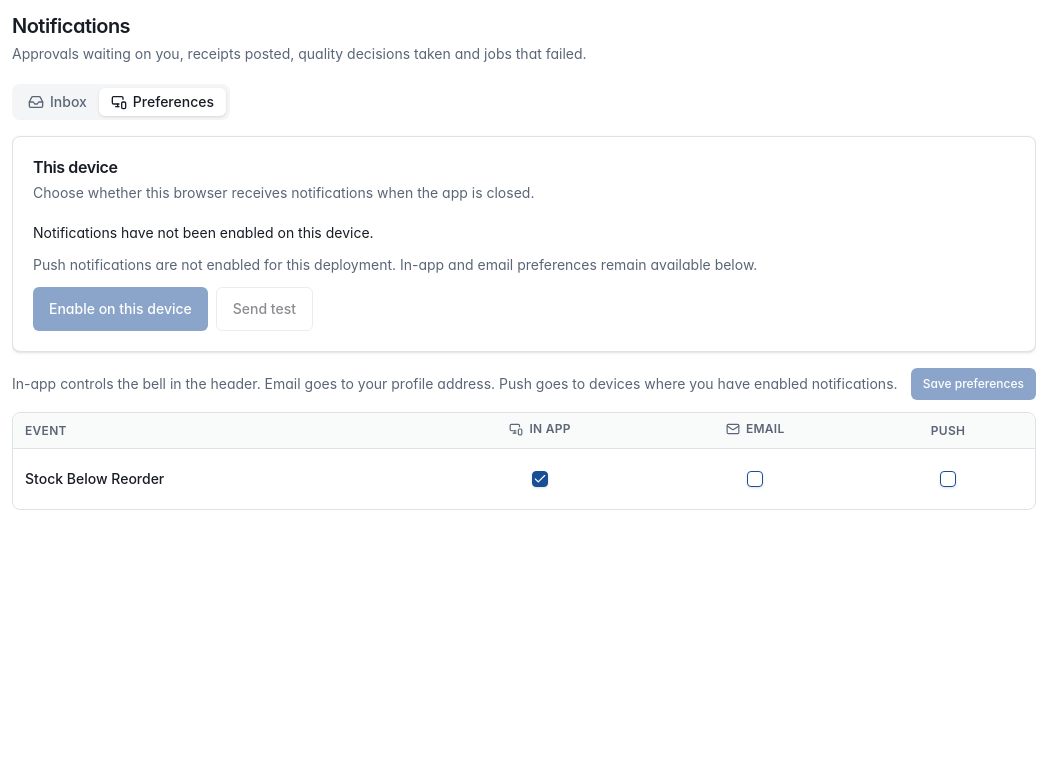
Test: notification preferences › restoring a checkbox removes the change instead of sending an untouched row
Click the 3rd checkbox named "Stock Below Reorder by push" at (948, 479), box [940,471,956,487]
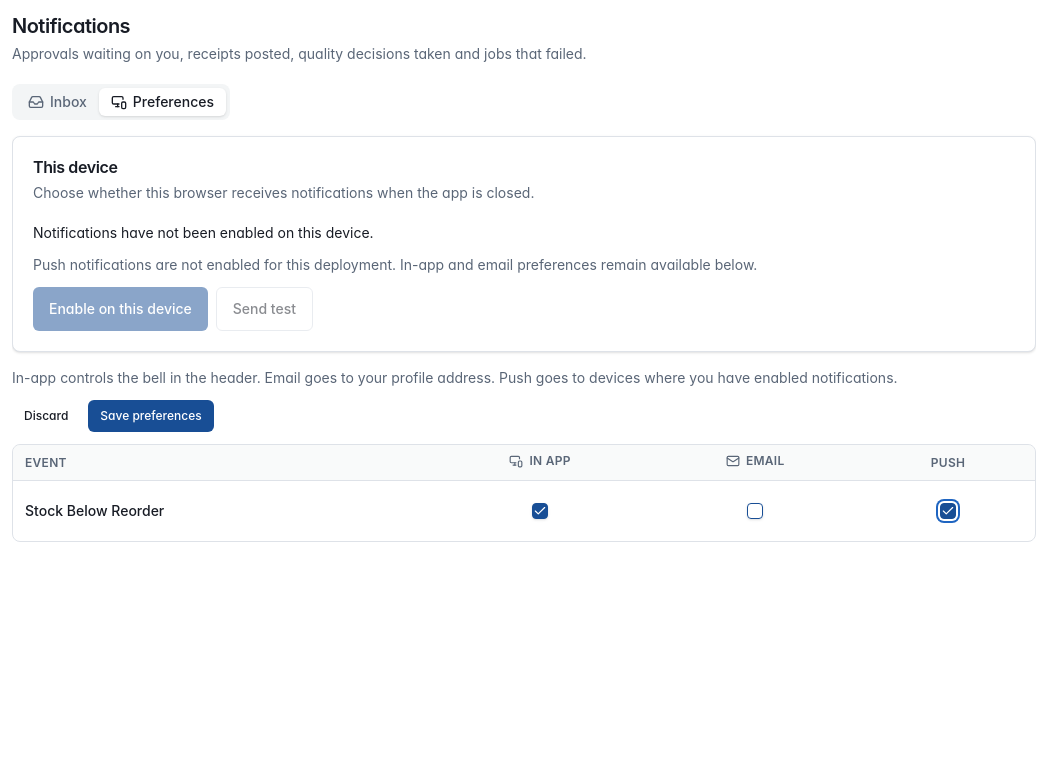
Click the 3rd checkbox named "Stock Below Reorder by push" at (948, 511), box [940,503,956,519]
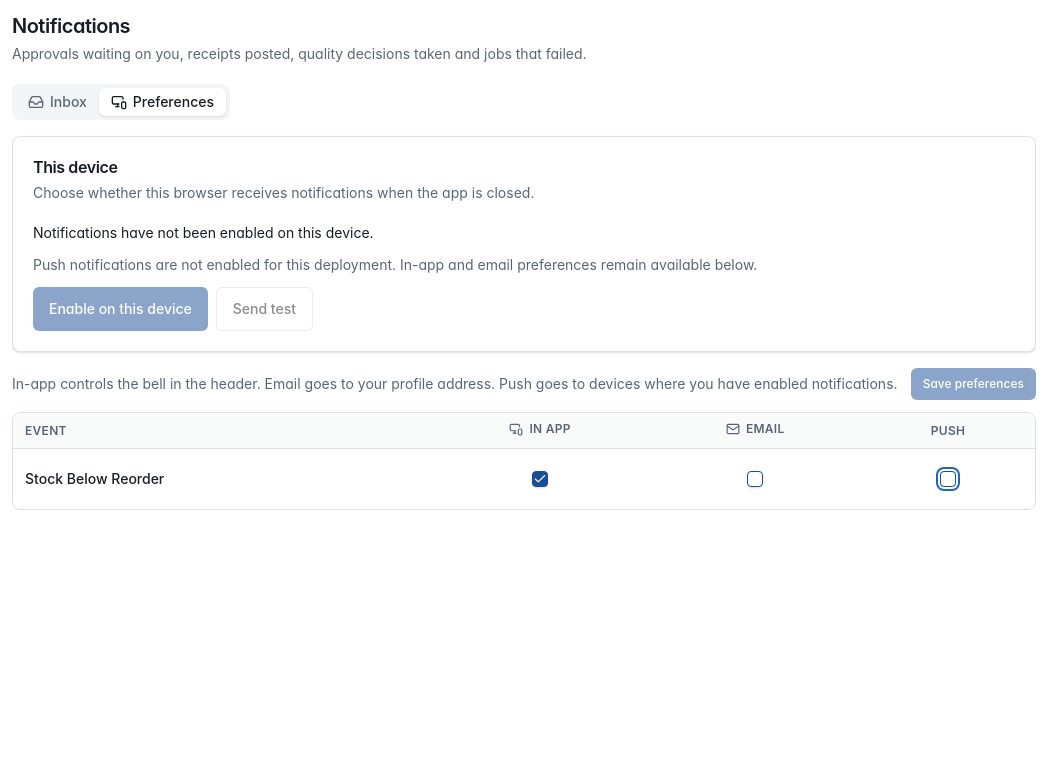
Now the button "Save preferences" is disabled, box [911,368,1036,400]
